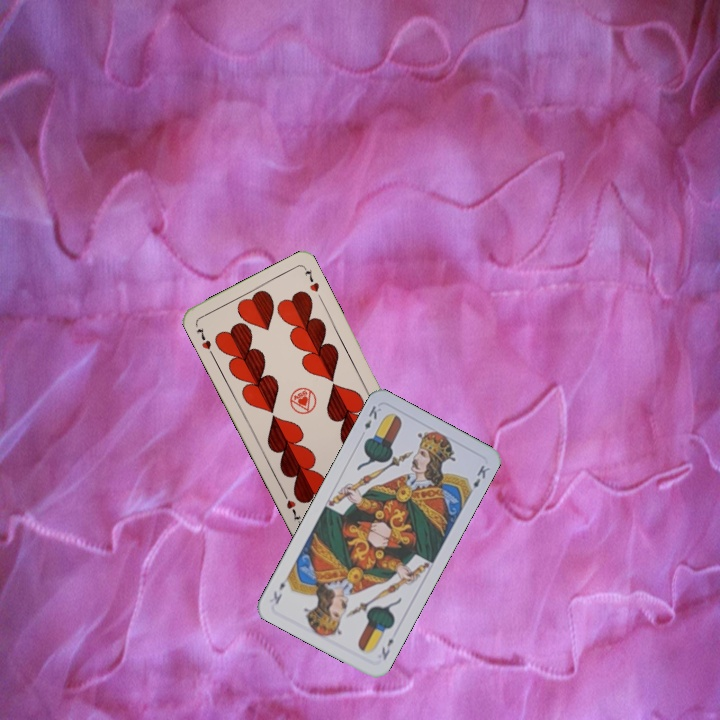EK: (360, 401, 384, 432), (377, 634, 396, 663)
H7: (192, 323, 216, 358)
